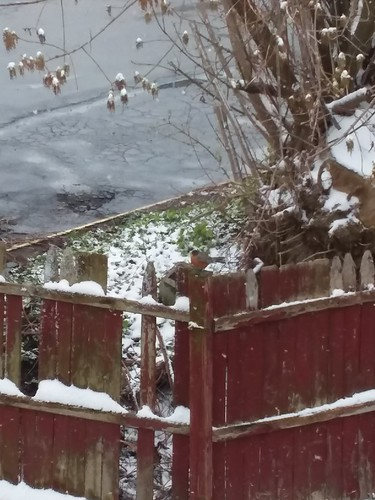street: (1, 1, 242, 213)
tree: (217, 1, 375, 230)
wall: (15, 250, 375, 500)
